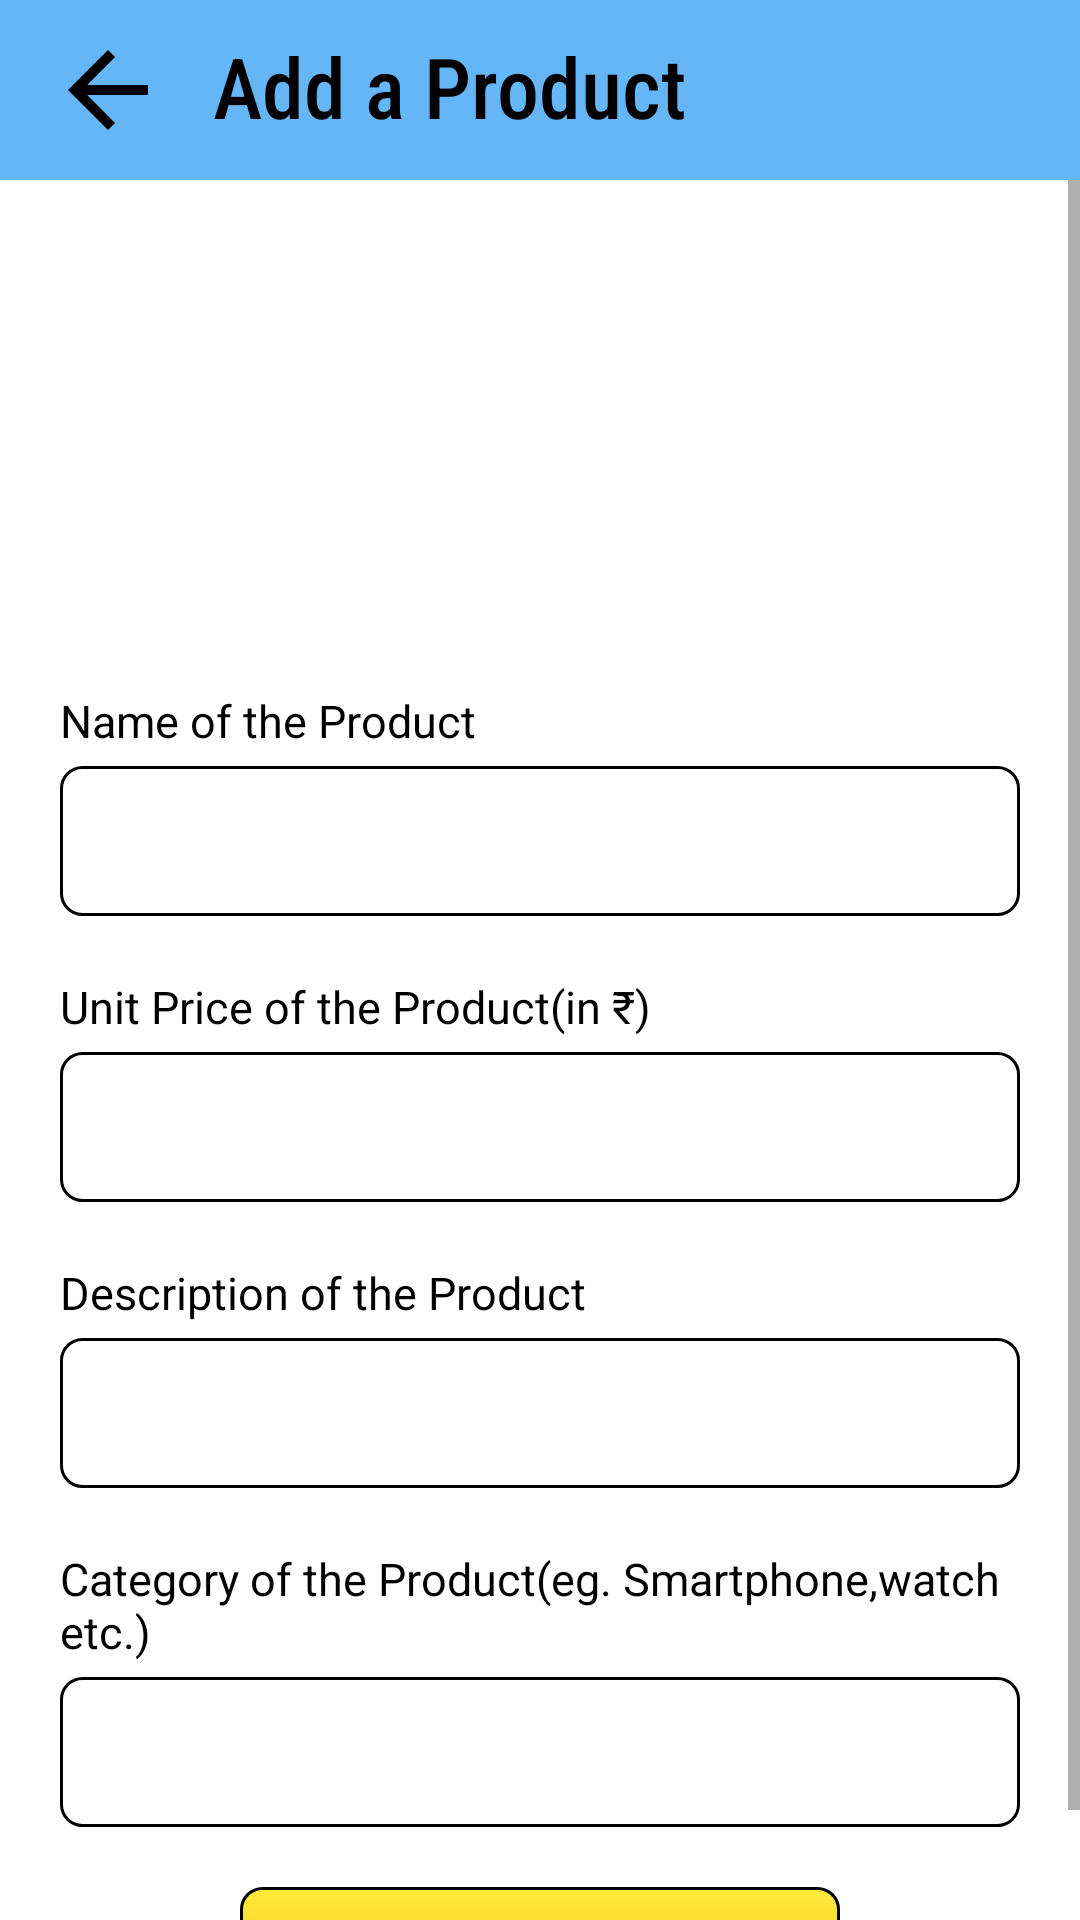

Where icons sit on this 1080 x 1920 app screen, as box(x1, y1, x2, y2):
back: box(68, 50, 148, 130)
